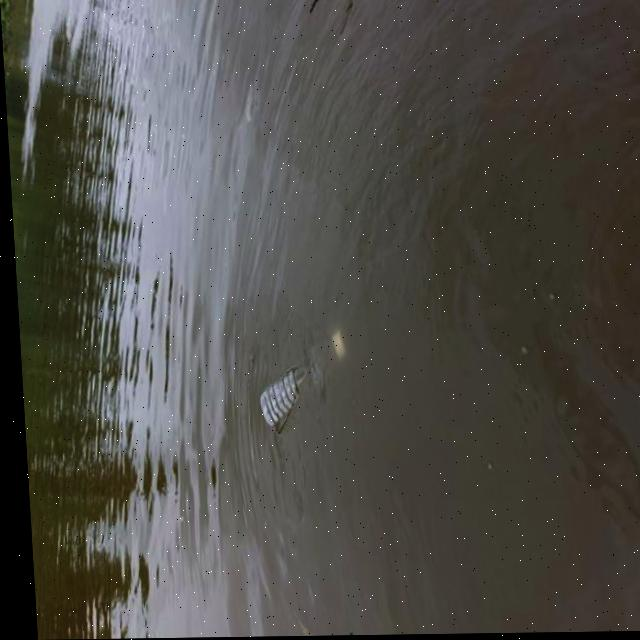waterbottle: (244, 321, 368, 447)
